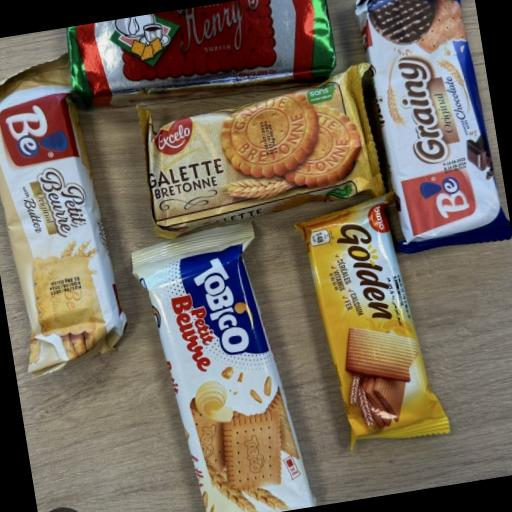golden: (236, 152, 504, 492)
